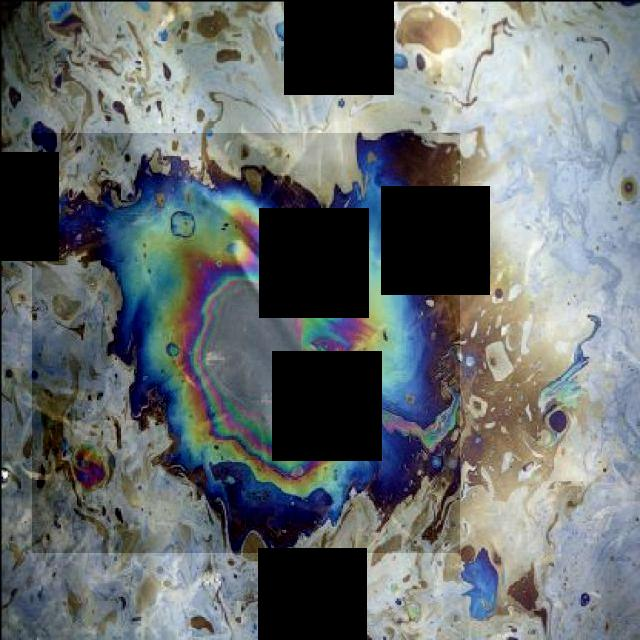oil spill: (32, 134, 460, 553)
